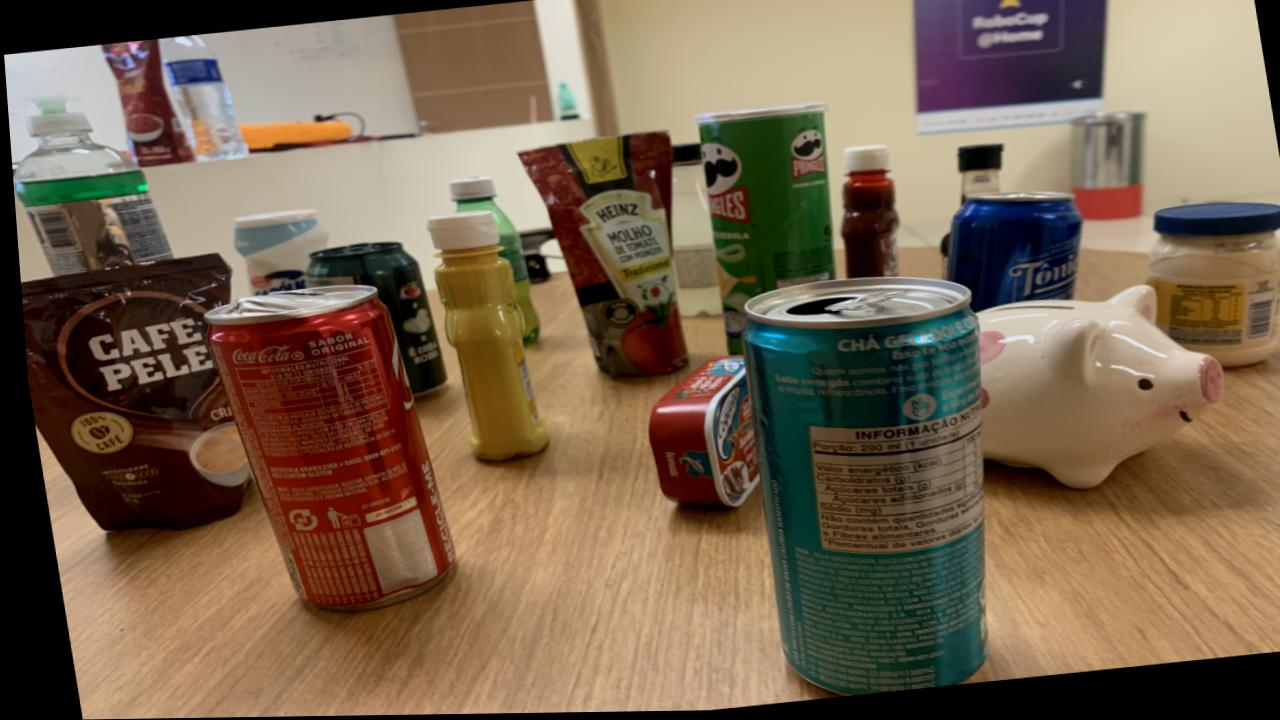Cleaner-Cleanup_Items: (229, 210, 325, 297)
Coffee-Pantry_Items: (16, 254, 244, 531)
Coke-Drinks: (198, 286, 445, 612)
Detergent-Cleanup_Items: (11, 97, 169, 277)
English_Sauce-Pantry_Items: (953, 146, 1001, 206)
Guarana-Drinks: (446, 177, 535, 346)
Guarana_Can-Drinks: (301, 243, 441, 395)
Ketchup-Pantry_Items: (837, 147, 896, 281)
Mayonnaise-Pantry_Items: (1142, 206, 1280, 370)
Mustard-Pantry_Items: (423, 211, 541, 463)
Pig_Safe-Miscellaneous: (972, 288, 1218, 492)
Pringles-Snacks: (692, 104, 831, 356)
Tea-Drinks: (737, 280, 976, 697)
Tomato_Sauce-Pantry_Items: (516, 133, 683, 379), (101, 40, 190, 168)
Tonic-Drinks: (941, 195, 1078, 314)
Tuna_Can-Pantry_Items: (640, 358, 752, 509)
Water_Bottle-Drinks: (158, 36, 245, 162)
